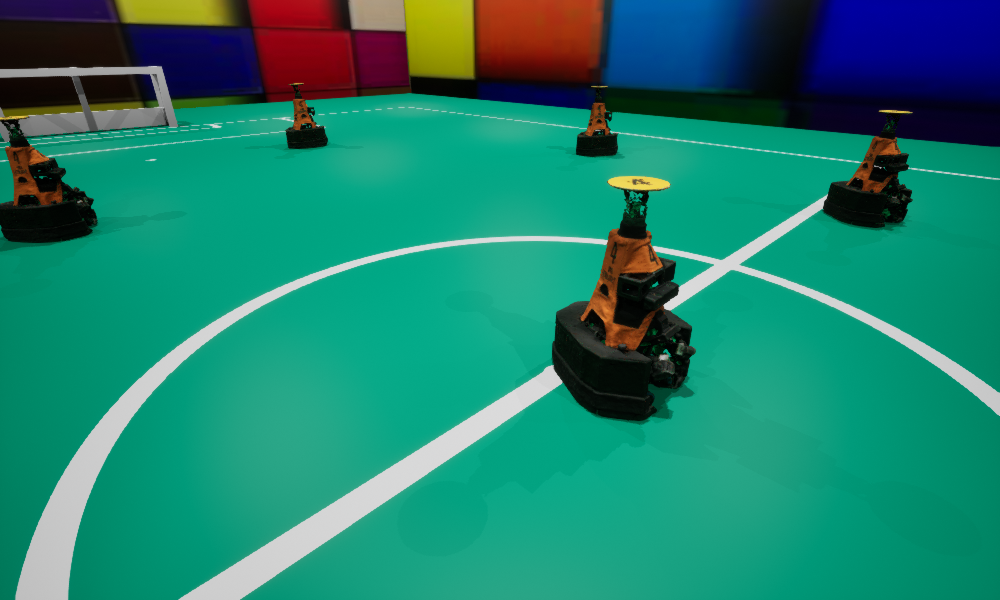0 orange robot TechUnited: (552, 176, 695, 420), (0, 116, 97, 242), (823, 110, 912, 227), (576, 86, 617, 156), (285, 83, 327, 148)
